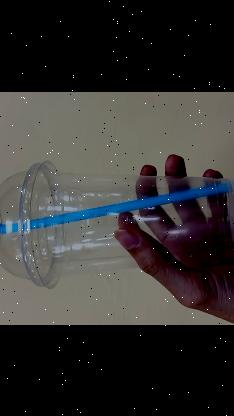Others: (0, 160, 234, 288)
